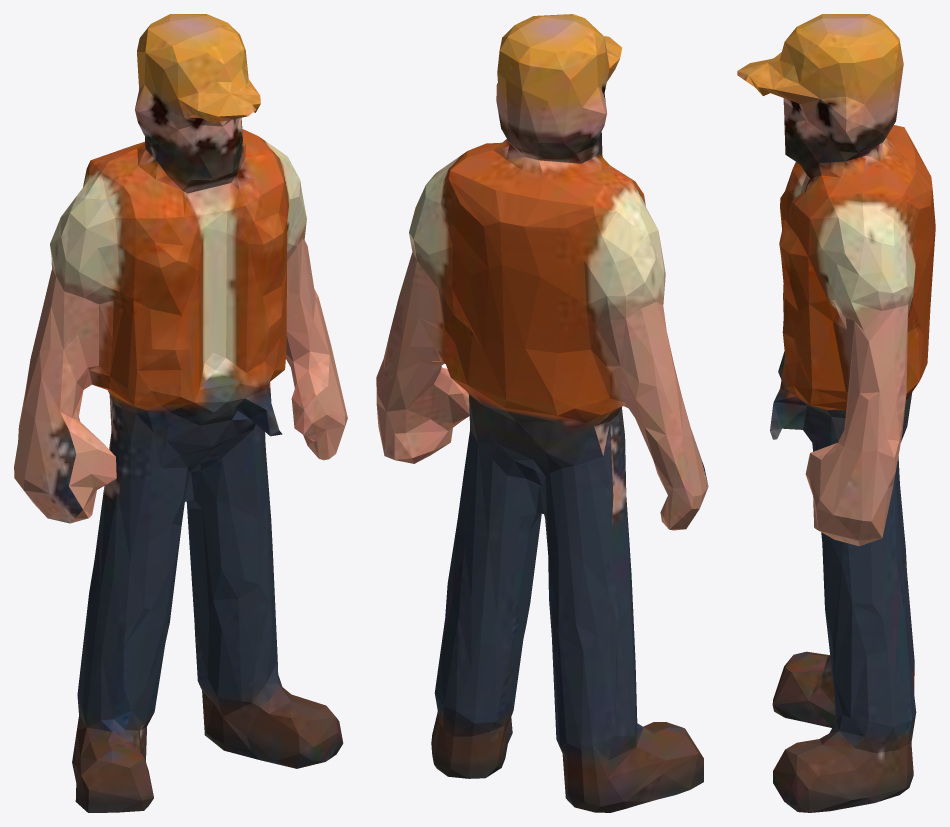
Rendered from habitant-loin.glb.
3 views of the same model, side by side, from view 1: azimuth 30°, elevation 25°; view 2: azimuth 150°, elevation 25°; view 3: azimuth 270°, elevation 25° (orthographic).
Visible parts, largest first — view 1: habitant; view 2: habitant; view 3: habitant.
Boxes of the visible parts, x1,y1,x2,y2 form: habitant: (14,14,347,812); habitant: (376,14,708,812); habitant: (737,14,935,812).
Bounding box in the file's own units: 0.4543 × 1.01 × 0.2483.
Materials: 1 (1 with a texture image).
